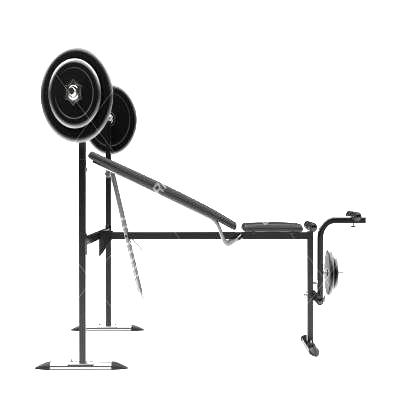Barbell: (67, 78, 80, 104)
